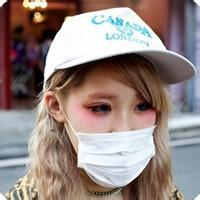WRONG: (73, 83, 158, 187)
